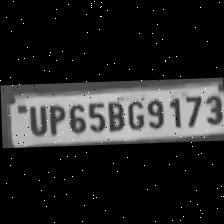1: (164, 94, 182, 128)
3: (200, 90, 222, 125)
5: (84, 97, 104, 132)
6: (64, 100, 84, 134)
7: (180, 92, 202, 126)
9: (142, 94, 164, 128)
B: (104, 96, 124, 132)
G: (123, 96, 143, 130)
P: (44, 100, 64, 136)
U: (23, 101, 47, 135)
